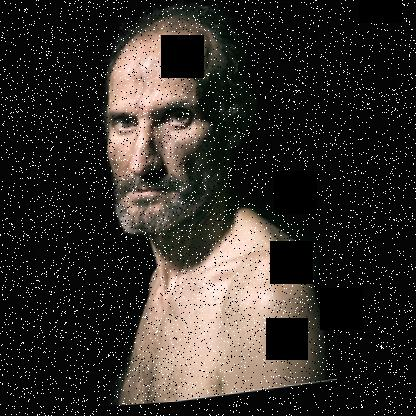Male: (90, 6, 267, 240)
